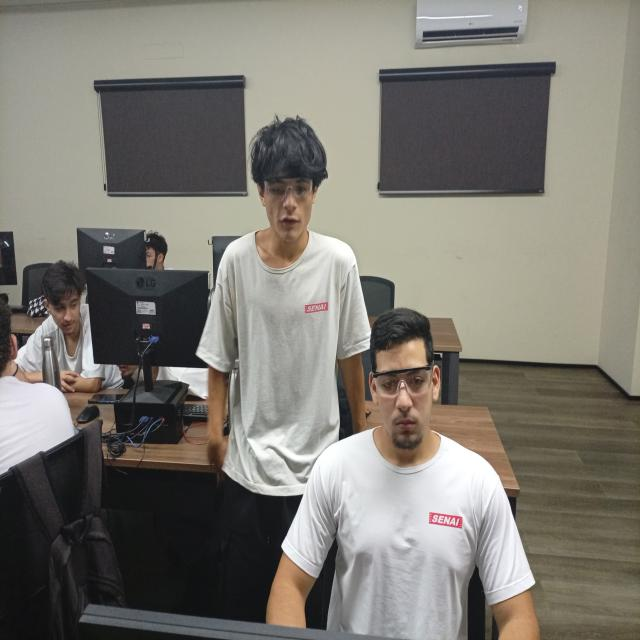oculos-epi: (371, 363, 434, 397), (264, 176, 312, 200)
sem_oculos: (42, 282, 90, 324), (144, 229, 168, 273), (0, 294, 11, 376)
